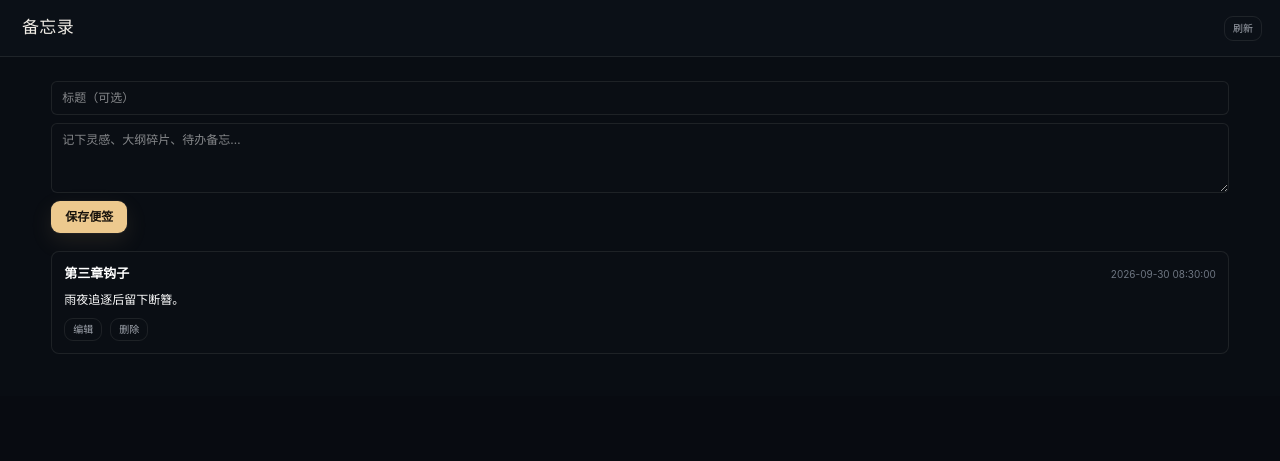
Test case: MemoView（备忘录） › 编辑后保存携带 update 载荷；删除携带 delete 载荷
The width and height of the screenshot is (1280, 461).
Expected: the element with test id "memo-item" is shown, [51,251,1229,354]
Click the button with test id "memo-edit".
click(83, 329)  # box [64,318,102,341]
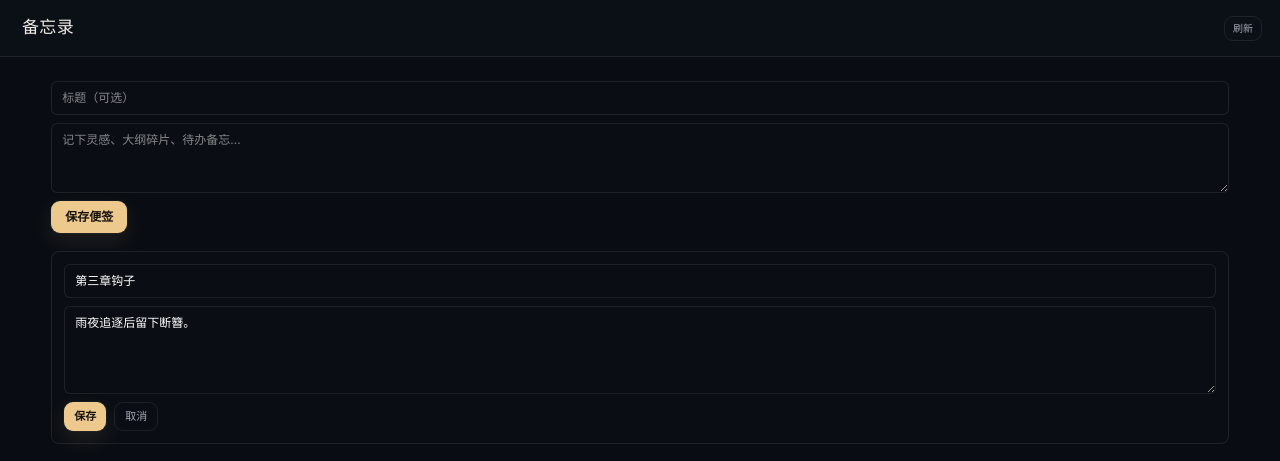
Replace the text in the text box with test id "memo-edit-content" with "改后内容" at (640, 350), box [64,306,1216,394]
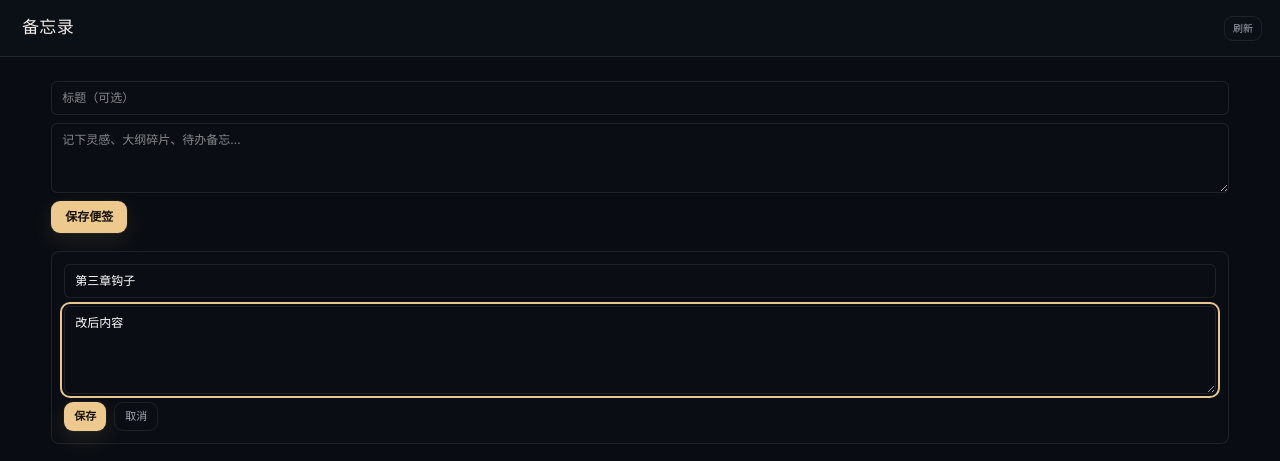
Click the button with test id "memo-save-edit".
click(85, 416)  # box [64,402,106,430]
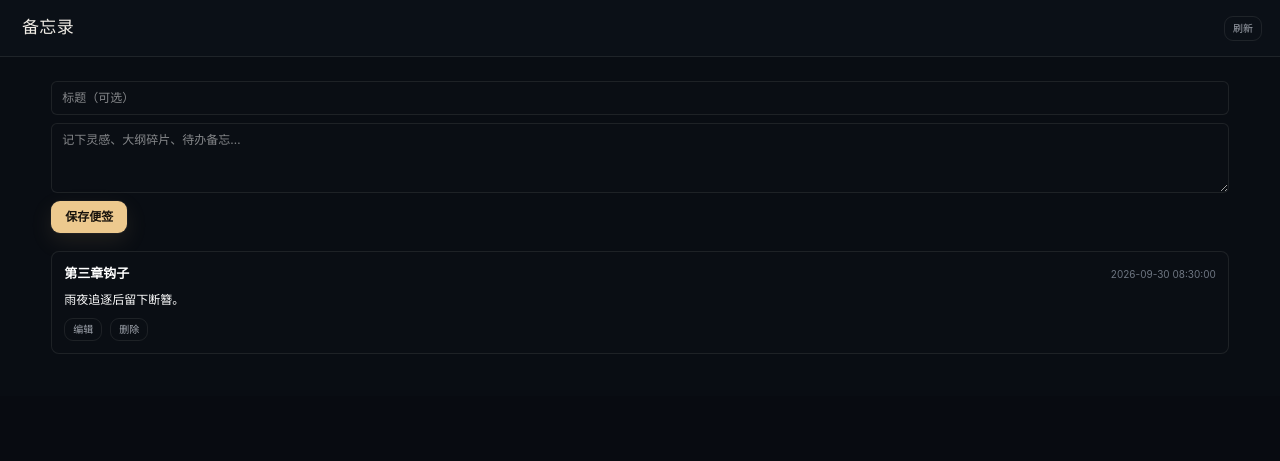
Expected: the text box with test id "memo-edit-content" is gone
Click the button with test id "memo-delete".
click(129, 329)  # box [110,318,148,341]
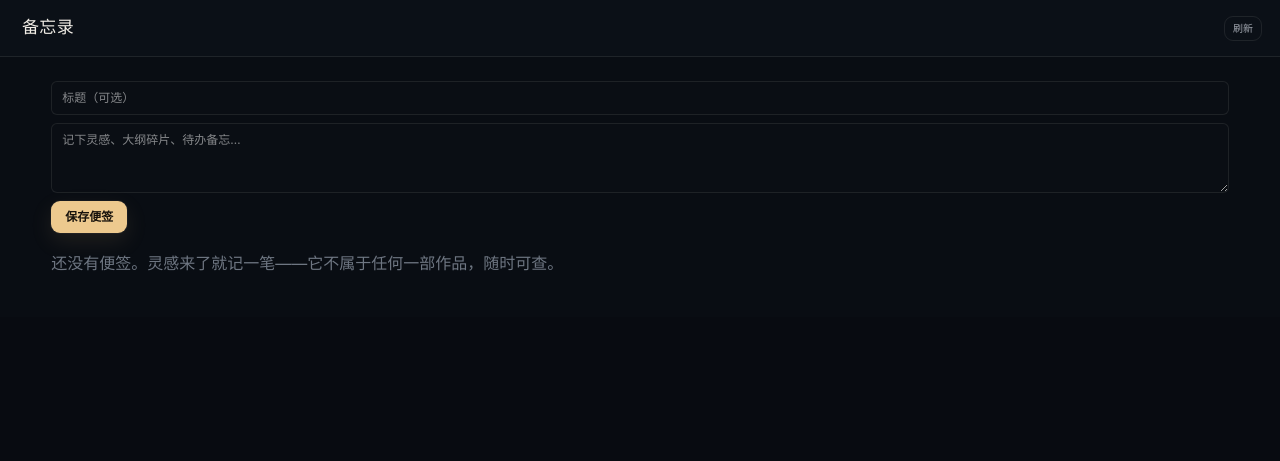
Expected: the text "还没有便签。灵感来了就记一笔——它不属于任何一部作品，随时可查。" is shown, [51,253,563,273]
